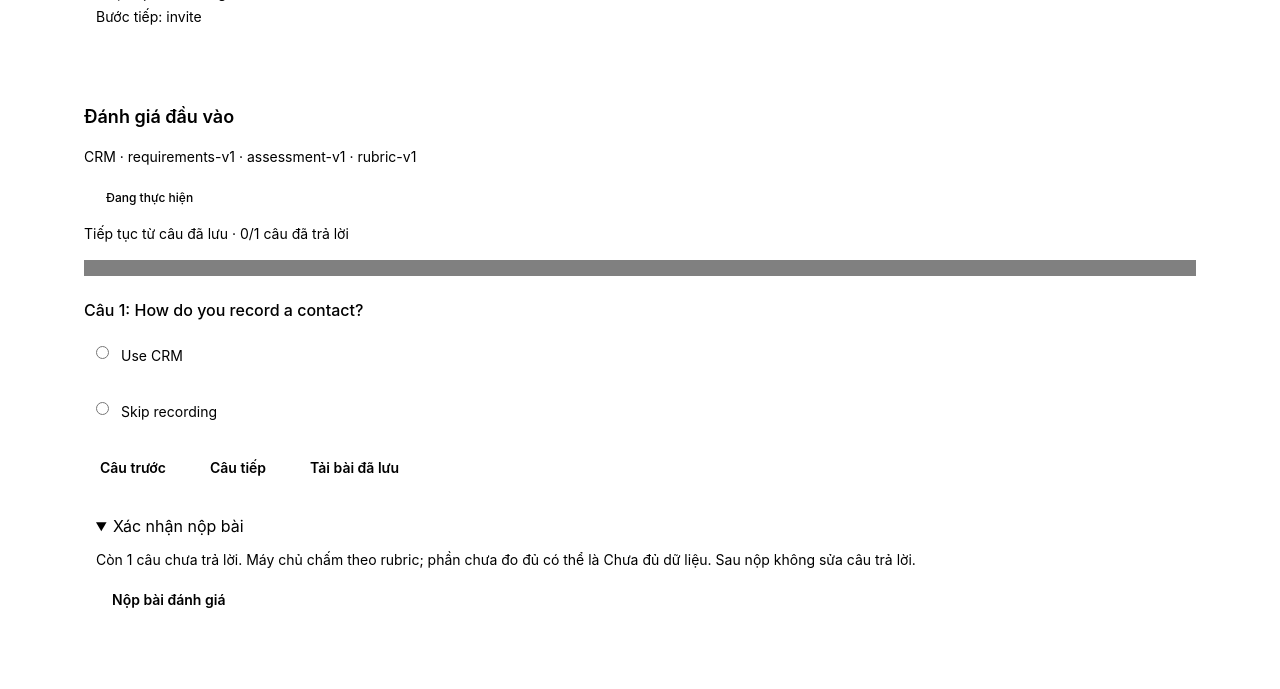
Test: guided enterprise trial › autosaves answers with revision, submits once and displays server insufficient data
(page scrolled)
Click the radio button labelled "Use CRM".
click(102, 352)  # box x1=96 y1=346 x2=109 y2=359
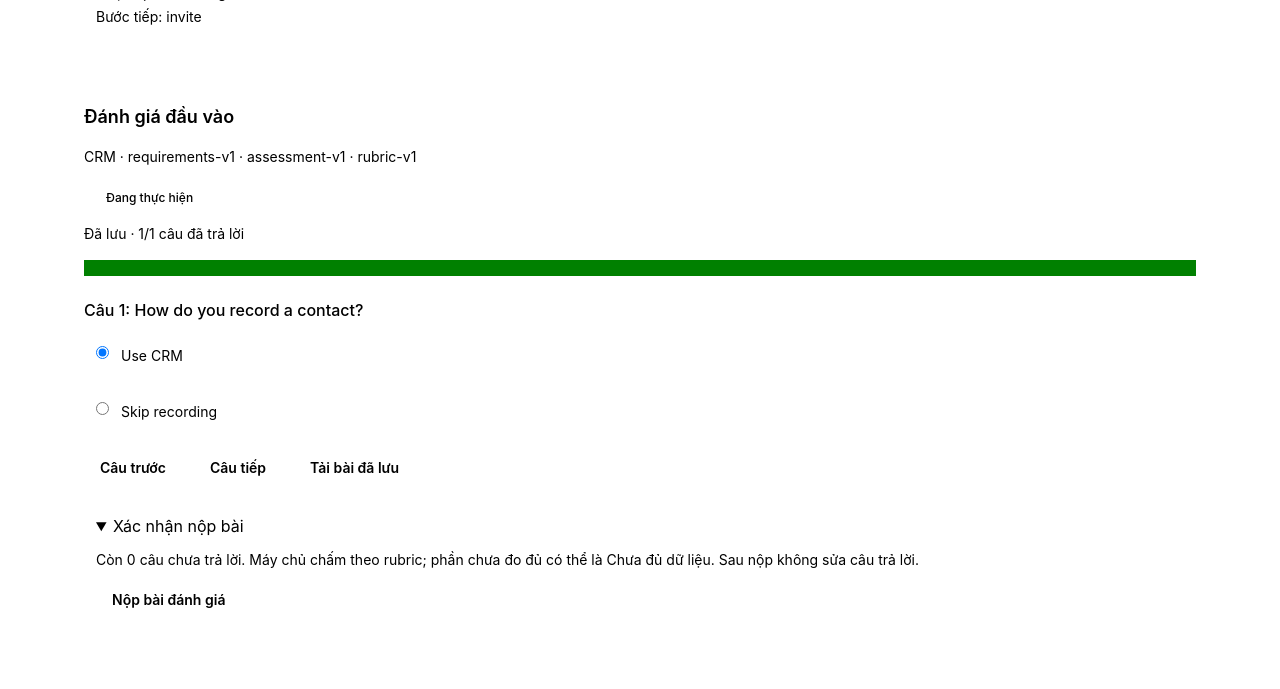
Expected: the text "Đã lưu · 1/1 câu đã trả lời" is shown, x1=84 y1=225 x2=244 y2=242
Click the button "Nộp bài đánh giá".
click(169, 600)  # box x1=96 y1=582 x2=241 y2=618
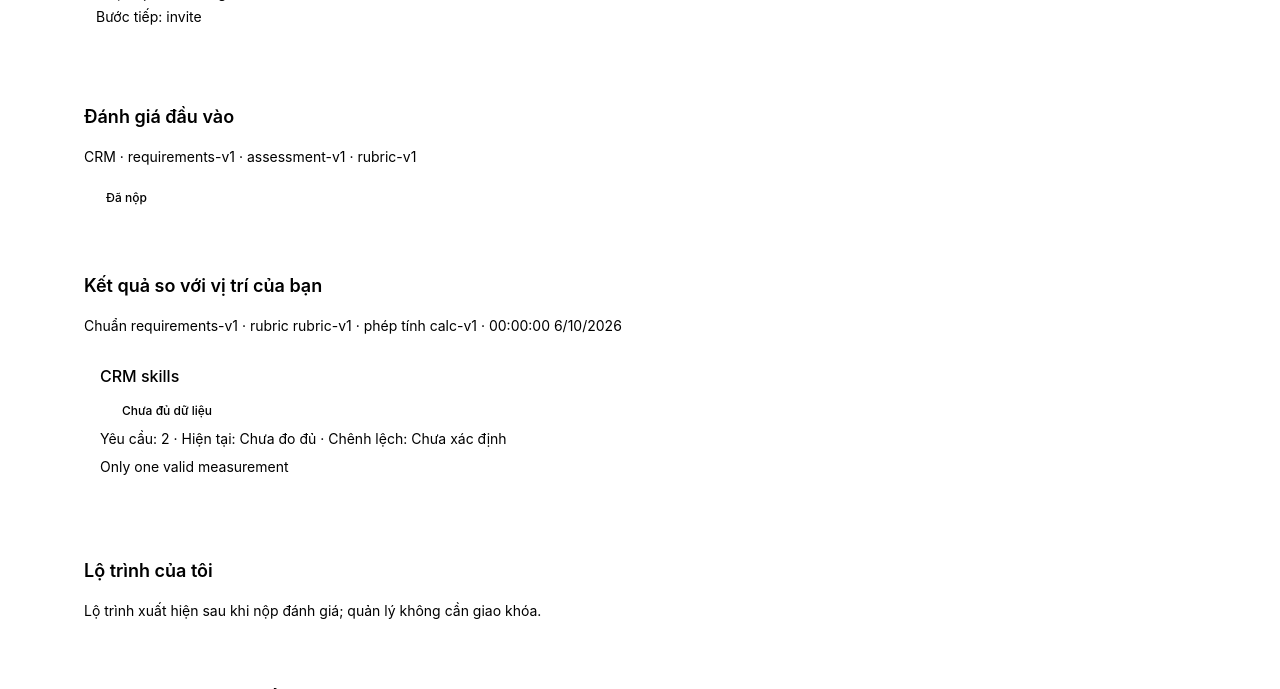
Expected: the text "Chưa đủ dữ liệu" is shown, x1=122 y1=403 x2=212 y2=418
Now the text "Only one valid measurement" is shown, box x1=100 y1=458 x2=288 y2=475
